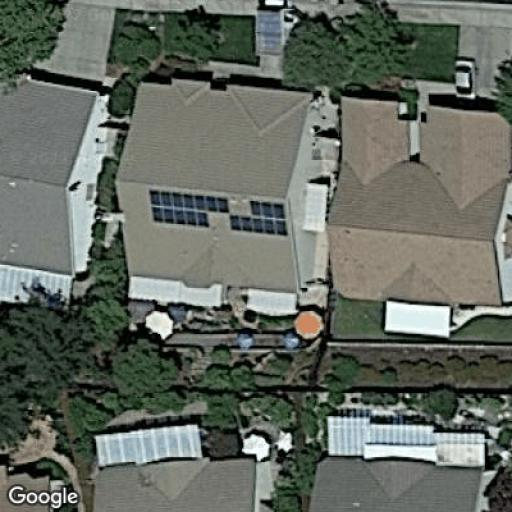solar-panel: (146, 189, 231, 229), (230, 198, 288, 238)
